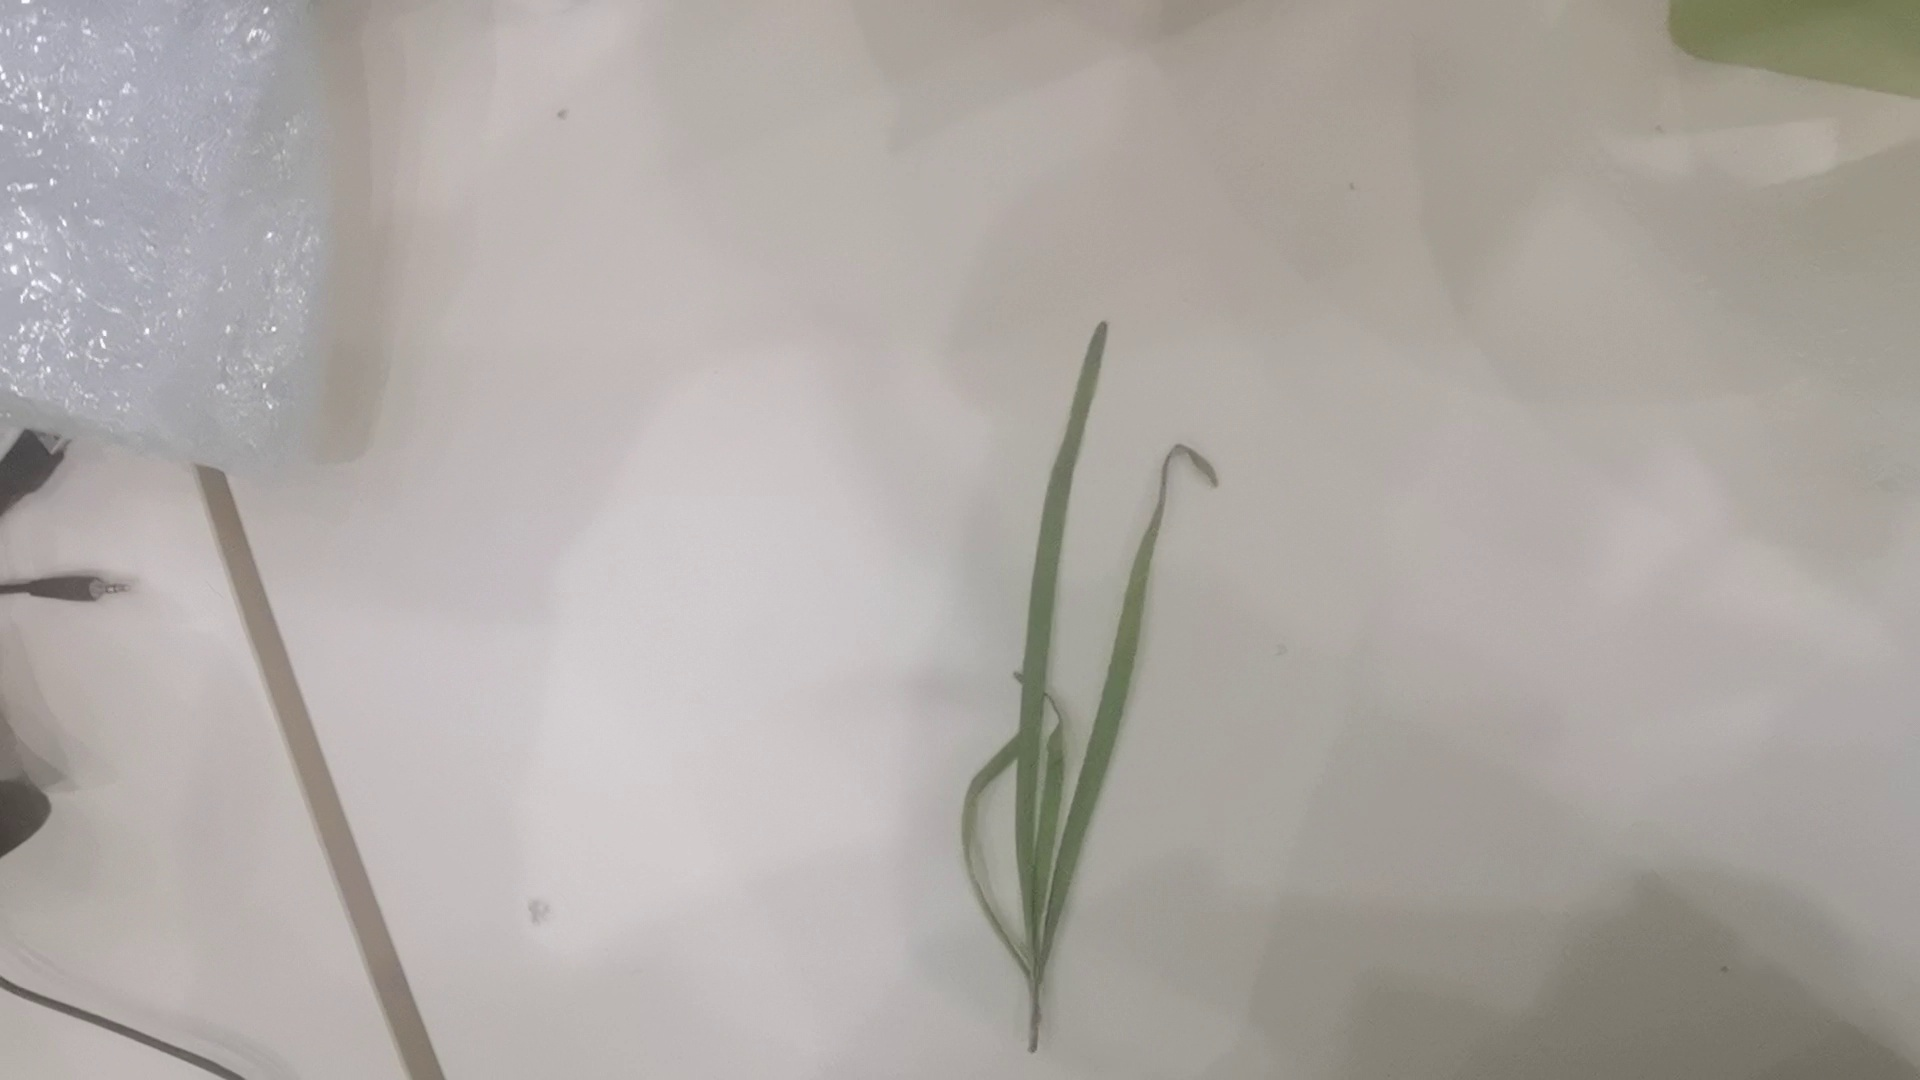chives: (969, 313, 1238, 1067)
